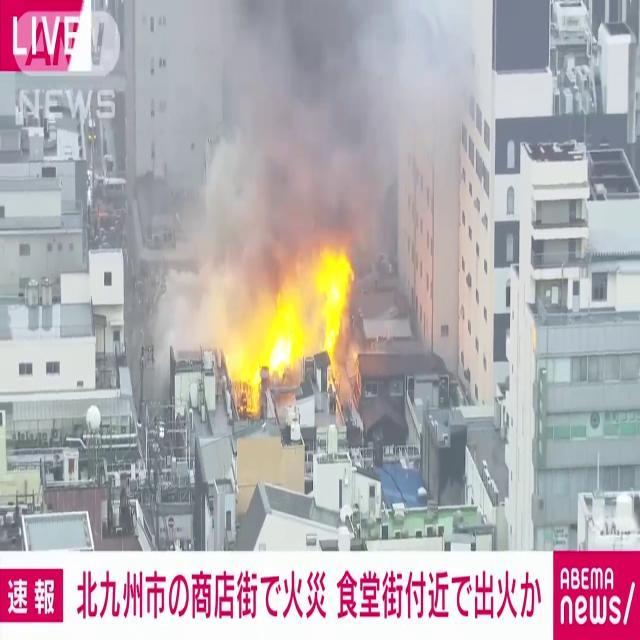Fire: (226, 239, 364, 405)
Smoke: (156, 0, 454, 278)
